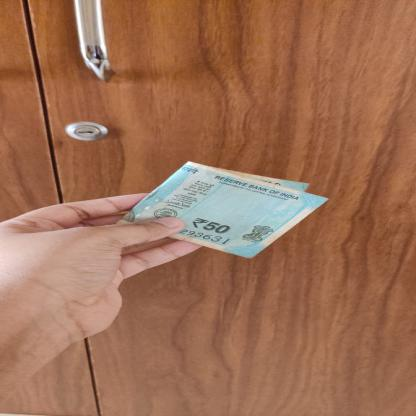New50Front: (117, 161, 331, 259)
